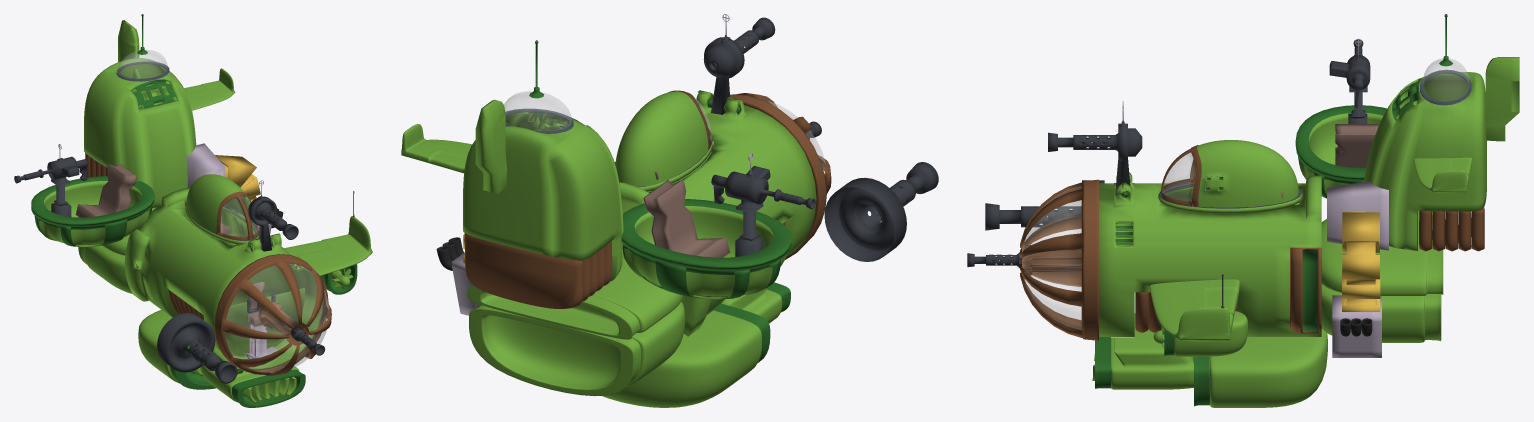
The model's file is green-plane.glb.
The picture shows the model from 3 angles, left to right: view 1: azimuth 30°, elevation 25°; view 2: azimuth 150°, elevation 25°; view 3: azimuth 270°, elevation 25°; orthographic projection. The views are drawn at different scales.
Parts seen in each view (by area): view 1: Cube, Cube.003, Front, Cube.009, Front.002, Cube.018, Cube.002, Cube.020, Cube.015, Cube.010, Cube.019, Cube.007 (+12 smaller); view 2: Cube.003, Cube.007, Cube, Cube.009, Cube.015, Cube.005, Front.002, Cube.020, Cube.008, Cube.010, Front, Front.001 (+8 smaller); view 3: Cube, Cube.003, Front, Cube.015, Cube.020, Cube.018, Cube.002, Cube.008, Cube.012, Cube.009, Cube.007, Cube.005 (+13 smaller).
Part boxes in pixels (x1=…): Cube: x1=124, y1=187, x2=322, y2=369; Cube.003: x1=84, y1=58, x2=196, y2=208; Front: x1=214, y1=254, x2=331, y2=375; Cube.009: x1=31, y1=176, x2=154, y2=246; Front.002: x1=157, y1=313, x2=237, y2=383; Cube.018: x1=200, y1=348, x2=305, y2=407; Cube.002: x1=284, y1=216, x2=372, y2=275; Cube.020: x1=185, y1=174, x2=254, y2=233; Cube.015: x1=138, y1=309, x2=215, y2=389; Cube.010: x1=75, y1=164, x2=136, y2=217; Cube.019: x1=216, y1=191, x2=258, y2=240; Cube.007: x1=78, y1=245, x2=132, y2=293; Cube.003: x1=463, y1=108, x2=623, y2=281; Cube.007: x1=469, y1=301, x2=684, y2=396; Cube: x1=619, y1=90, x2=816, y2=336; Cube.009: x1=621, y1=199, x2=791, y2=299; Cube.015: x1=602, y1=303, x2=770, y2=407; Cube.005: x1=464, y1=233, x2=612, y2=308; Front.002: x1=824, y1=162, x2=938, y2=261; Cube.020: x1=615, y1=91, x2=708, y2=186; Cube.008: x1=467, y1=258, x2=683, y2=339; Cube.010: x1=643, y1=180, x2=729, y2=257; Front: x1=730, y1=93, x2=831, y2=259; Front.001: x1=703, y1=17, x2=775, y2=114; Cube: x1=1099, y1=172, x2=1321, y2=336; Cube.003: x1=1364, y1=69, x2=1486, y2=250; Front: x1=967, y1=179, x2=1098, y2=340; Cube.015: x1=1194, y1=329, x2=1327, y2=407; Cube.020: x1=1195, y1=140, x2=1298, y2=207; Cube.018: x1=1092, y1=313, x2=1193, y2=389; Cube.002: x1=1149, y1=279, x2=1240, y2=341; Cube.008: x1=1321, y1=210, x2=1443, y2=295; Cube.012: x1=1342, y1=211, x2=1380, y2=311; Cube.009: x1=1295, y1=105, x2=1386, y2=198; Cube.007: x1=1321, y1=284, x2=1441, y2=342; Cube.005: x1=1419, y1=207, x2=1484, y2=251.
Size of the model in its own units: 45.04 by 44.62 by 58.7.
Materials: 10 (1 with a texture image).
